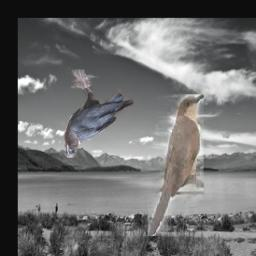Crow: (64, 70, 134, 159)
Cuckoo: (148, 95, 204, 237)
